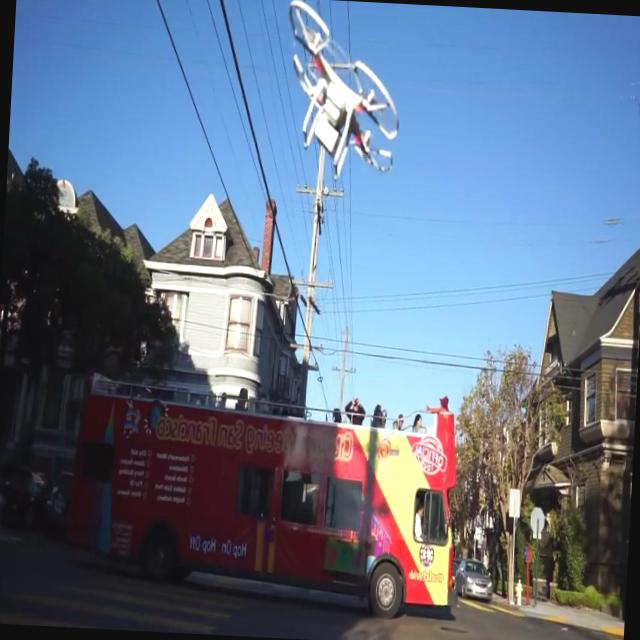drone: (278, 0, 406, 189)
